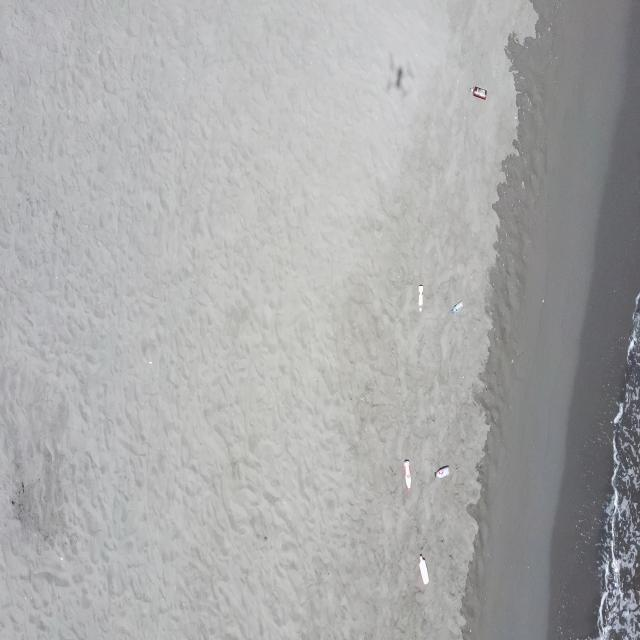Garbage: (420, 553, 427, 584), (404, 459, 411, 488), (472, 85, 486, 99), (417, 283, 423, 311), (449, 300, 463, 312), (436, 466, 447, 477)
